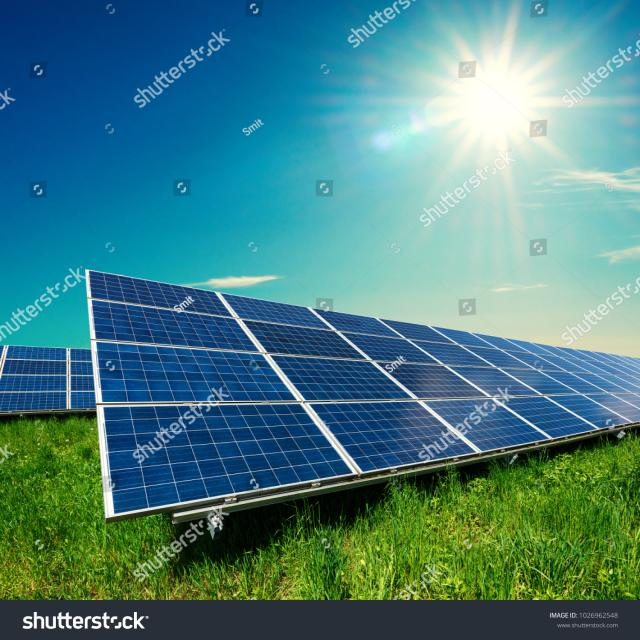clean-solar-panel: (87, 271, 639, 521)
